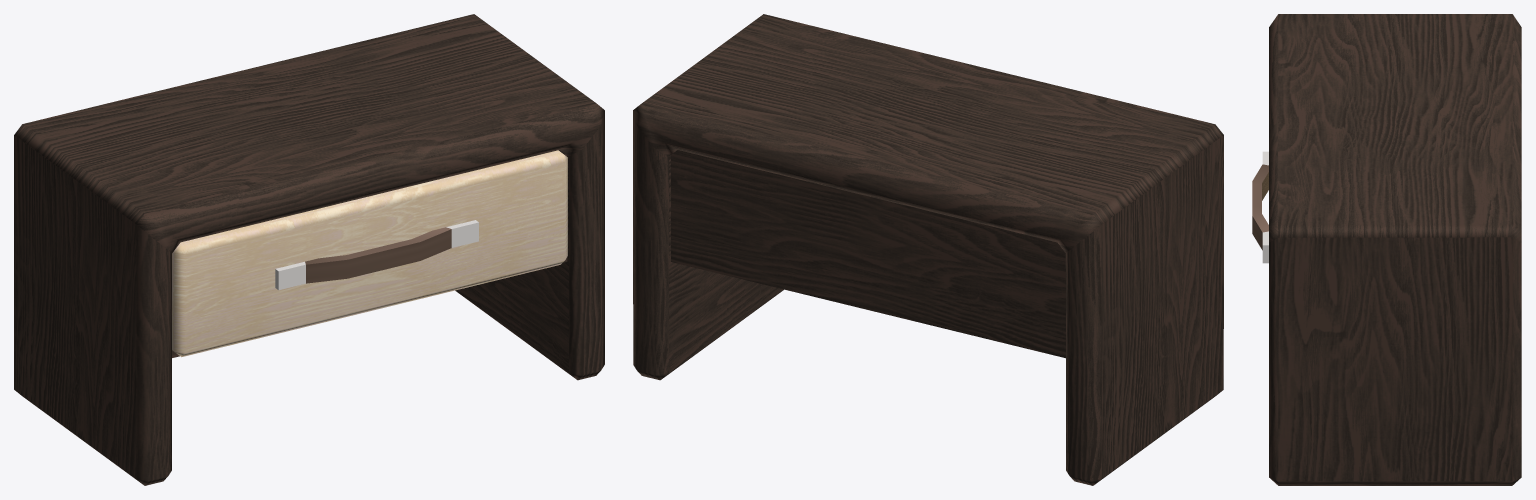
Rendered from dresser_005.fbx.
The picture shows the model from 3 angles, left to right: view 1: azimuth 30°, elevation 25°; view 2: azimuth 150°, elevation 25°; view 3: azimuth 270°, elevation 25°; orthographic projection. The views are drawn at different scales.
Parts seen in each view (by area): view 1: dresser_005; view 2: dresser_005; view 3: dresser_005.
Part boxes in pixels (<box>): dresser_005: <box>14,14,604,485</box>; dresser_005: <box>633,14,1223,485</box>; dresser_005: <box>1252,14,1521,485</box>.
Size of the model in its own units: 115 by 59.91 by 63.97.
